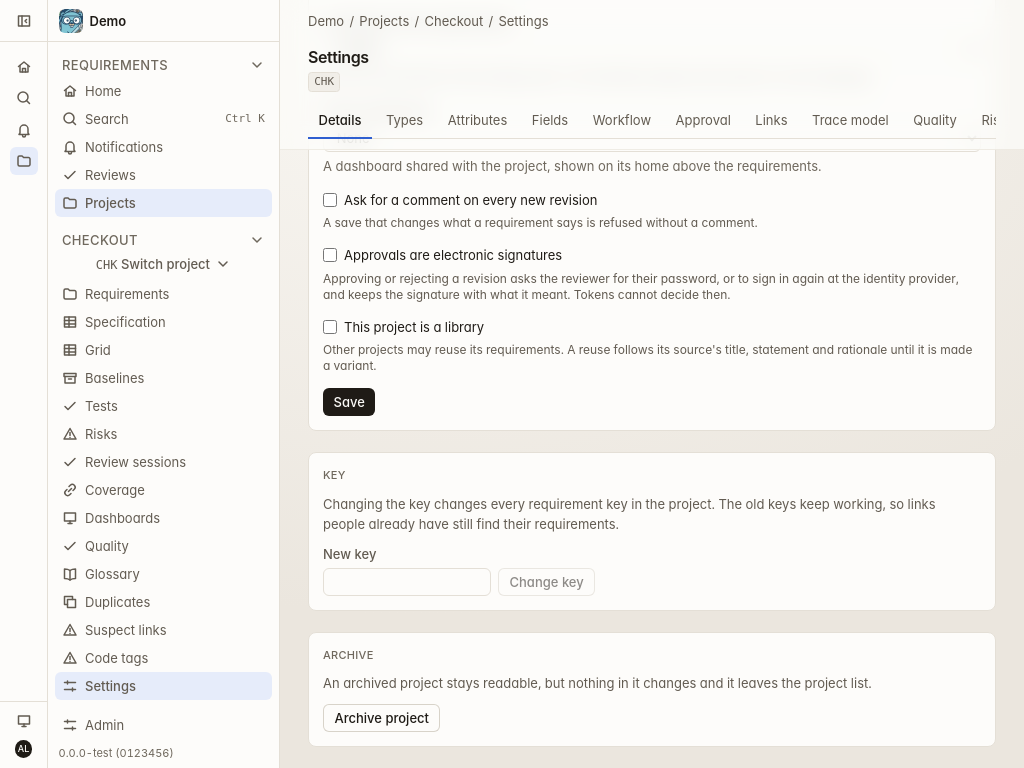
Scenario: a project's settings › changes the key and follows it
The image size is (1024, 768).
(page scrolled)
Type "pay" into the field labelled "New key".
click(407, 582); type("pay")  # box [323, 568, 491, 596]
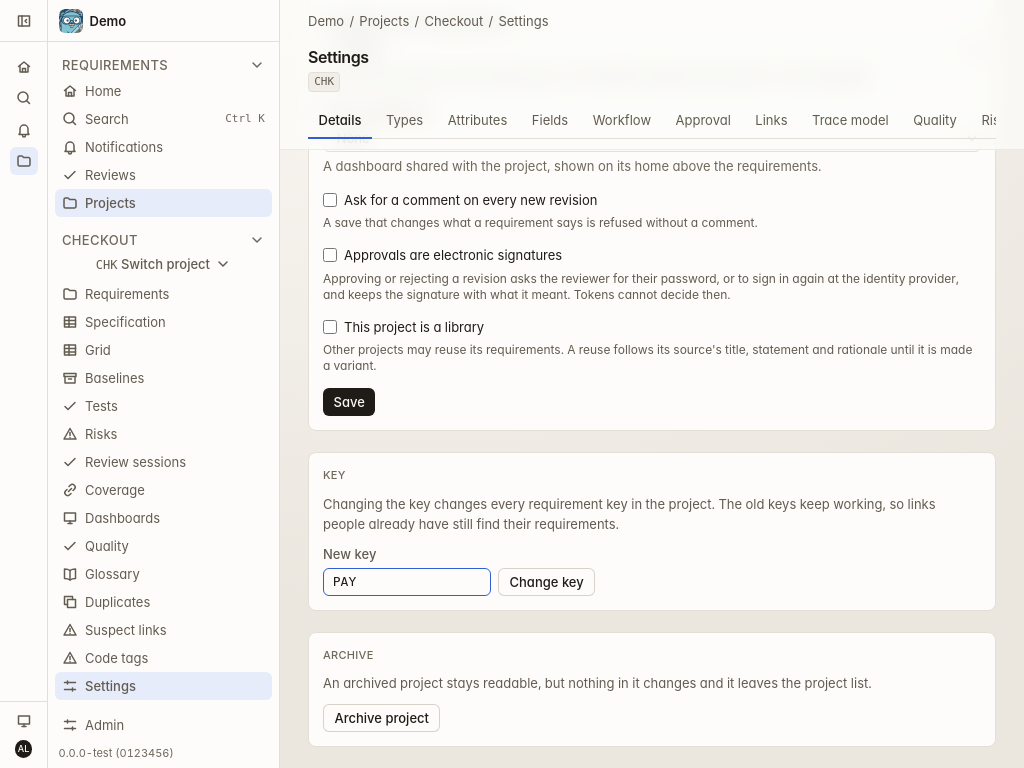
Click the button "Change key".
click(547, 582)  # box [498, 568, 595, 596]
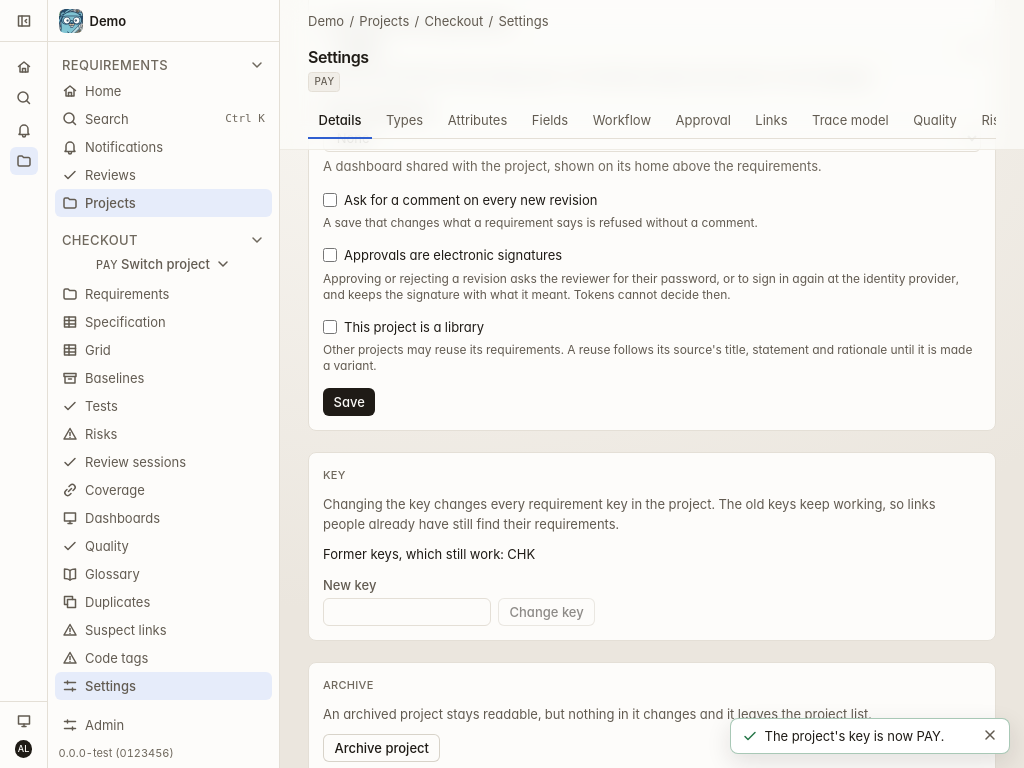
Check: the text "Former keys, which still work: CHK" is shown, box [323, 546, 535, 562]
